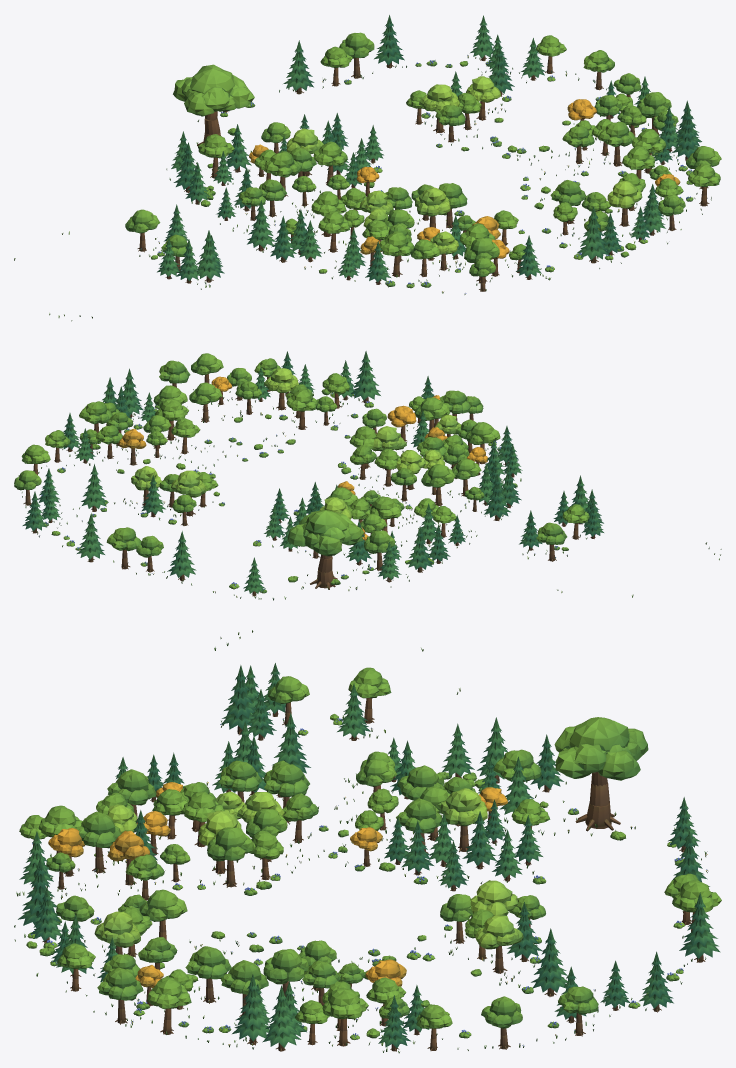
File: LOBBY_SN_09_VEGETATION_c47183.fbx
The picture shows the model from 3 angles, top to bottom: view 1: azimuth 30°, elevation 25°; view 2: azimuth 150°, elevation 25°; view 3: azimuth 270°, elevation 25°; orthographic projection. The views are drawn at different scales.
Visible parts, largest first — view 1: WB_Veg_oak1__SNB_Veg_oak1_g15_15, WB_Veg_oak1__SNB_Veg_oak1_g16_15, WB_Veg_oak1__SNB_Veg_oak1_g15_16, WB_Veg_ancient__SNB_Veg_ancient, WB_Veg_pine1__SNB_Veg_pine1_g14_15, WB_Veg_pine1__SNB_Veg_pine1_g17_15, WB_Veg_pine2__SNB_Veg_pine2_g15_16, WB_Veg_oak2__SNB_Veg_oak2_g16_15, WB_Veg_oak3__SNB_Veg_oak3_g15_15, WB_Veg_oak1__SNB_Veg_oak1_g16_16, WB_Veg_oak3__SNB_Veg_oak3_g16_16, WB_Veg_pine2__SNB_Veg_pine2_g15_15 (+24 smaller); view 2: WB_Veg_oak1__SNB_Veg_oak1_g15_15, WB_Veg_oak1__SNB_Veg_oak1_g16_15, WB_Veg_ancient__SNB_Veg_ancient, WB_Veg_oak1__SNB_Veg_oak1_g15_16, WB_Veg_pine1__SNB_Veg_pine1_g17_15, WB_Veg_pine2__SNB_Veg_pine2_g15_16, WB_Veg_oak3__SNB_Veg_oak3_g15_15, WB_Veg_pine1__SNB_Veg_pine1_g14_15, WB_Veg_oak1__SNB_Veg_oak1_g16_16, WB_Veg_oak2__SNB_Veg_oak2_g16_15, WB_Veg_pine2__SNB_Veg_pine2_g16_16, WB_Veg_oak1__SNB_Veg_oak1_g17_16 (+20 smaller); view 3: WB_Veg_oak1__SNB_Veg_oak1_g15_15, WB_Veg_oak1__SNB_Veg_oak1_g16_15, WB_Veg_pine2__SNB_Veg_pine2_g15_16, WB_Veg_ancient__SNB_Veg_ancient, WB_Veg_oak1__SNB_Veg_oak1_g15_16, WB_Veg_pine1__SNB_Veg_pine1_g17_15, WB_Veg_pine1__SNB_Veg_pine1_g14_15, WB_Veg_oak2__SNB_Veg_oak2_g16_15, WB_Veg_oak1__SNB_Veg_oak1_g17_16, WB_Veg_oak2__SNB_Veg_oak2_g15_15, WB_Veg_oak3__SNB_Veg_oak3_g15_15, WB_Veg_oak1__SNB_Veg_oak1_g16_16 (+25 smaller).
Boxes of the visible parts, box(x1,y1,x2,y2) form: WB_Veg_oak1__SNB_Veg_oak1_g15_15: box(311, 183, 518, 283); WB_Veg_oak1__SNB_Veg_oak1_g16_15: box(550, 106, 720, 230); WB_Veg_oak1__SNB_Veg_oak1_g15_16: box(198, 122, 347, 220); WB_Veg_ancient__SNB_Veg_ancient: box(173, 64, 254, 146); WB_Veg_pine1__SNB_Veg_pine1_g14_15: box(176, 200, 541, 283); WB_Veg_pine1__SNB_Veg_pine1_g17_15: box(488, 45, 701, 248); WB_Veg_pine2__SNB_Veg_pine2_g15_16: box(213, 113, 383, 211); WB_Veg_oak2__SNB_Veg_oak2_g16_15: box(514, 96, 671, 259); WB_Veg_oak3__SNB_Veg_oak3_g15_15: box(359, 187, 458, 270); WB_Veg_oak1__SNB_Veg_oak1_g16_16: box(406, 35, 643, 142); WB_Veg_oak3__SNB_Veg_oak3_g16_16: box(419, 76, 500, 133); WB_Veg_pine2__SNB_Veg_pine2_g15_15: box(301, 215, 645, 284); WB_Veg_oak1__SNB_Veg_oak1_g15_15: box(349, 390, 500, 505); WB_Veg_oak1__SNB_Veg_oak1_g16_15: box(106, 353, 317, 454); WB_Veg_ancient__SNB_Veg_ancient: box(287, 509, 363, 589); WB_Veg_oak1__SNB_Veg_oak1_g15_16: box(312, 487, 451, 570); WB_Veg_pine1__SNB_Veg_pine1_g17_15: box(63, 351, 367, 511); WB_Veg_pine2__SNB_Veg_pine2_g15_16: box(264, 482, 437, 559); WB_Veg_oak3__SNB_Veg_oak3_g15_15: box(372, 414, 461, 489); WB_Veg_pine1__SNB_Veg_pine1_g14_15: box(421, 376, 603, 526); WB_Veg_oak1__SNB_Veg_oak1_g16_16: box(17, 414, 218, 525); WB_Veg_oak2__SNB_Veg_oak2_g16_15: box(79, 373, 425, 445); WB_Veg_pine2__SNB_Veg_pine2_g16_16: box(38, 428, 165, 522); WB_Veg_oak1__SNB_Veg_oak1_g17_16: box(14, 402, 105, 487); WB_Veg_oak1__SNB_Veg_oak1_g15_15: box(51, 760, 309, 900); WB_Veg_oak1__SNB_Veg_oak1_g16_15: box(57, 889, 340, 1034); WB_Veg_pine2__SNB_Veg_pine2_g15_16: box(384, 740, 542, 891); WB_Veg_ancient__SNB_Veg_ancient: box(554, 717, 648, 831); WB_Veg_oak1__SNB_Veg_oak1_g15_16: box(356, 749, 550, 853); WB_Veg_pine1__SNB_Veg_pine1_g17_15: box(51, 902, 567, 1051); WB_Veg_pine1__SNB_Veg_pine1_g14_15: box(19, 665, 346, 888); WB_Veg_oak2__SNB_Veg_oak2_g16_15: box(46, 857, 409, 1031); WB_Veg_oak1__SNB_Veg_oak1_g17_16: box(342, 987, 598, 1050); WB_Veg_oak2__SNB_Veg_oak2_g15_15: box(53, 760, 318, 889); WB_Veg_oak3__SNB_Veg_oak3_g15_15: box(107, 791, 284, 874); WB_Veg_oak1__SNB_Veg_oak1_g16_16: box(366, 894, 598, 1036).
Size of the model in its own units: 444 by 51.29 by 312.
10 materials, 10 textured.
